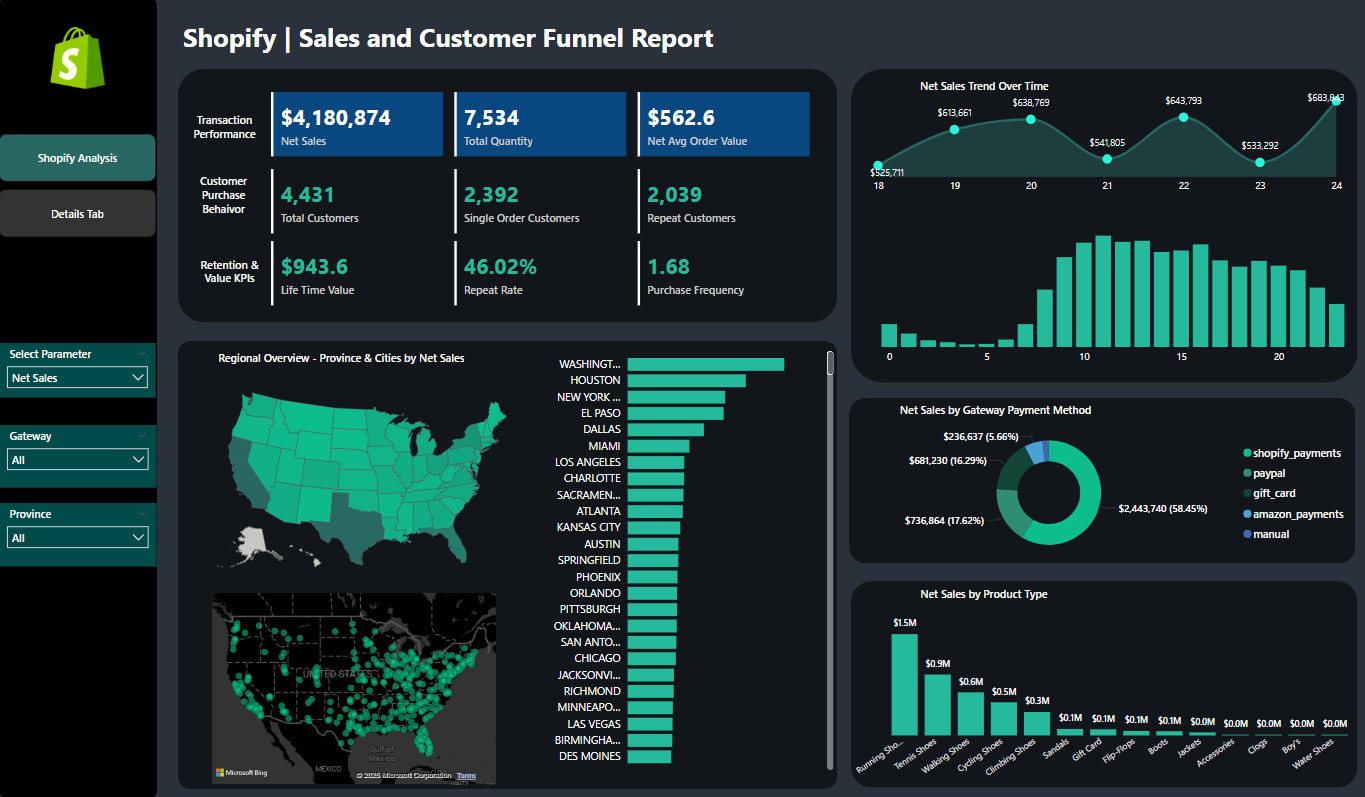

The dashboard page shown, as its layout file describes it:
{"tool":"powerbi","page":{"name":"Shopify Analysis","canvas":[1700,1000],"ordinal":0},"visuals":[{"type":"shape","box":[0,0,196.7,1000],"z":0},{"type":"textbox","box":[223.3,23.3,800,68.3],"z":1000},{"type":"shape","box":[223,91,820,315],"z":2000},{"type":"cardVisual","fields":{"Data":["_Measures.Net Sales","_Measures.Total Quantity","_Measures.Net Avg Order Value"]},"box":[333.1,114.2,680,90],"z":3000},{"type":"cardVisual","fields":{"Data":["_Measures.Transaction Perf"]},"box":[216.4,113.6,128.2,90],"z":4000},{"type":"cardVisual","fields":{"Data":["_Measures.Total Customers","_Measures.Single Order Customers","_Measures.Repeat Order Customers"]},"box":[333.1,209.9,680,90],"z":5000},{"type":"cardVisual","fields":{"Data":["_Measures.Life Time Value","_Measures.Repeat Rate","_Measures.Purchase Frequency"]},"box":[332.9,300,680,90],"z":6000},{"type":"cardVisual","fields":{"Data":["_Measures.Customer Purchase"]},"box":[215.7,190,128.6,104.3],"z":7000},{"type":"cardVisual","fields":{"Data":["_Measures.Value KPIs & Retention"]},"box":[222.9,285.7,128.6,104.3],"z":8000},{"type":"shape","box":[222.9,428.6,820,557.1],"z":9000},{"type":"shapeMap","fields":{"Value":["_Measures.Net Sales"],"Category":["shopify_sales.Billing Address Province"]},"box":[229,476,444,251],"z":10000},{"type":"slicer","fields":{"Values":["Parameter.Parameter"]},"box":[0,431.6,195.3,68.4],"z":11000},{"type":"map","fields":{"Category":["shopify_sales.Location"]},"box":[237.6,737.6,435.3,230.1],"z":12000},{"type":"barChart","title":"Net Sales by CITY","fields":{"Y":["_Measures.Net Sales"],"Category":["shopify_sales.CITY"]},"box":[672.9,428.6,370,538.6],"z":13000},{"type":"cardVisual","fields":{"Data":["_Measures.Map Title"]},"box":[208,416,436,60],"z":14000},{"type":"shape","box":[1059.3,90.4,630.4,390.1],"z":15000},{"type":"areaChart","fields":{"Y":["_Measures.Net Sales"],"Category":["shopify_sales.Invoice Date.Variation.Date Hierarchy.Day"]},"box":[1090.8,153,582.1,133.1],"z":16000},{"type":"columnChart","fields":{"Y":["_Measures.Net Sales"],"Category":["shopify_sales.HOUR"]},"box":[1087.1,286.1,585.8,180.3],"z":17000},{"type":"cardVisual","fields":{"Data":["_Measures.Trends Dynamic Title"]},"box":[1223.9,74.6,294.8,59.7],"z":18000},{"type":"shape","box":[1057.1,500,630,205.7],"z":19000},{"type":"donutChart","fields":{"Y":["_Measures.Net Sales"],"Category":["shopify_sales.Gateway"]},"box":[1060,530,627.1,175.7],"z":20000},{"type":"cardVisual","fields":{"Data":["_Measures.Gateway Title"]},"box":[1194,481.3,363.2,59.7],"z":21000},{"type":"shape","box":[1060,727.1,630,257.1],"z":22000},{"type":"columnChart","fields":{"Y":["_Measures.Net Sales"],"Category":["shopify_sales.Product Type"]},"box":[1060,753.3,640,230],"z":23000},{"type":"cardVisual","fields":{"Data":["_Measures.Product Title"]},"box":[1225.1,709,293.5,59.7],"z":24000},{"type":"image","box":[0,33.3,196.7,86.7],"z":25000},{"type":"slicer","fields":{"Values":["shopify_sales.Gateway"]},"box":[0,533.3,196,78],"z":26000},{"type":"slicer","fields":{"Values":["shopify_sales.Billing Address Province"]},"box":[0,630,195.7,78.6],"z":27000},{"type":"pageNavigator","box":[0,171.4,195.7,128.6],"z":28000},{"type":"textbox","box":[1090.8,301,77.1,43.5],"z":28001},{"type":"textbox","box":[1098.3,134.3,62.2,37.3],"z":28002}]}

Visuals, with their boxes on the page's 1700x1000 design canvas (x1, y1, x2, y2). These are canvas units, not pixel positions in the 1365x797 screenshot, which may show the page scaled, cropped or inside an application window:
shape: pyautogui.locateOnScreen(0, 0, 197, 1000)
textbox: pyautogui.locateOnScreen(223, 23, 1023, 92)
shape: pyautogui.locateOnScreen(223, 91, 1043, 406)
cardVisual - _Measures.Net Sales x _Measures.Total Quantity: pyautogui.locateOnScreen(333, 114, 1013, 204)
cardVisual - _Measures.Transaction Perf: pyautogui.locateOnScreen(216, 114, 345, 204)
cardVisual - _Measures.Total Customers x _Measures.Single Order Customers: pyautogui.locateOnScreen(333, 210, 1013, 300)
cardVisual - _Measures.Life Time Value x _Measures.Repeat Rate: pyautogui.locateOnScreen(333, 300, 1013, 390)
cardVisual - _Measures.Customer Purchase: pyautogui.locateOnScreen(216, 190, 344, 294)
cardVisual - _Measures.Value KPIs & Retention: pyautogui.locateOnScreen(223, 286, 352, 390)
shape: pyautogui.locateOnScreen(223, 429, 1043, 986)
shapeMap - _Measures.Net Sales x shopify_sales.Billing Address Province: pyautogui.locateOnScreen(229, 476, 673, 727)
slicer - Parameter.Parameter: pyautogui.locateOnScreen(0, 432, 195, 500)
map - shopify_sales.Location: pyautogui.locateOnScreen(238, 738, 673, 968)
"Net Sales by CITY" barChart: pyautogui.locateOnScreen(673, 429, 1043, 967)
cardVisual - _Measures.Map Title: pyautogui.locateOnScreen(208, 416, 644, 476)
shape: pyautogui.locateOnScreen(1059, 90, 1690, 480)
areaChart - _Measures.Net Sales x shopify_sales.Invoice Date.Variation.Date Hierarchy.Day: pyautogui.locateOnScreen(1091, 153, 1673, 286)
columnChart - _Measures.Net Sales x shopify_sales.HOUR: pyautogui.locateOnScreen(1087, 286, 1673, 466)
cardVisual - _Measures.Trends Dynamic Title: pyautogui.locateOnScreen(1224, 75, 1519, 134)
shape: pyautogui.locateOnScreen(1057, 500, 1687, 706)
donutChart - _Measures.Net Sales x shopify_sales.Gateway: pyautogui.locateOnScreen(1060, 530, 1687, 706)
cardVisual - _Measures.Gateway Title: pyautogui.locateOnScreen(1194, 481, 1557, 541)
shape: pyautogui.locateOnScreen(1060, 727, 1690, 984)
columnChart - _Measures.Net Sales x shopify_sales.Product Type: pyautogui.locateOnScreen(1060, 753, 1700, 983)
cardVisual - _Measures.Product Title: pyautogui.locateOnScreen(1225, 709, 1519, 769)
image: pyautogui.locateOnScreen(0, 33, 197, 120)
slicer - shopify_sales.Gateway: pyautogui.locateOnScreen(0, 533, 196, 611)
slicer - shopify_sales.Billing Address Province: pyautogui.locateOnScreen(0, 630, 196, 709)
pageNavigator: pyautogui.locateOnScreen(0, 171, 196, 300)
textbox: pyautogui.locateOnScreen(1091, 301, 1168, 344)
textbox: pyautogui.locateOnScreen(1098, 134, 1160, 172)
